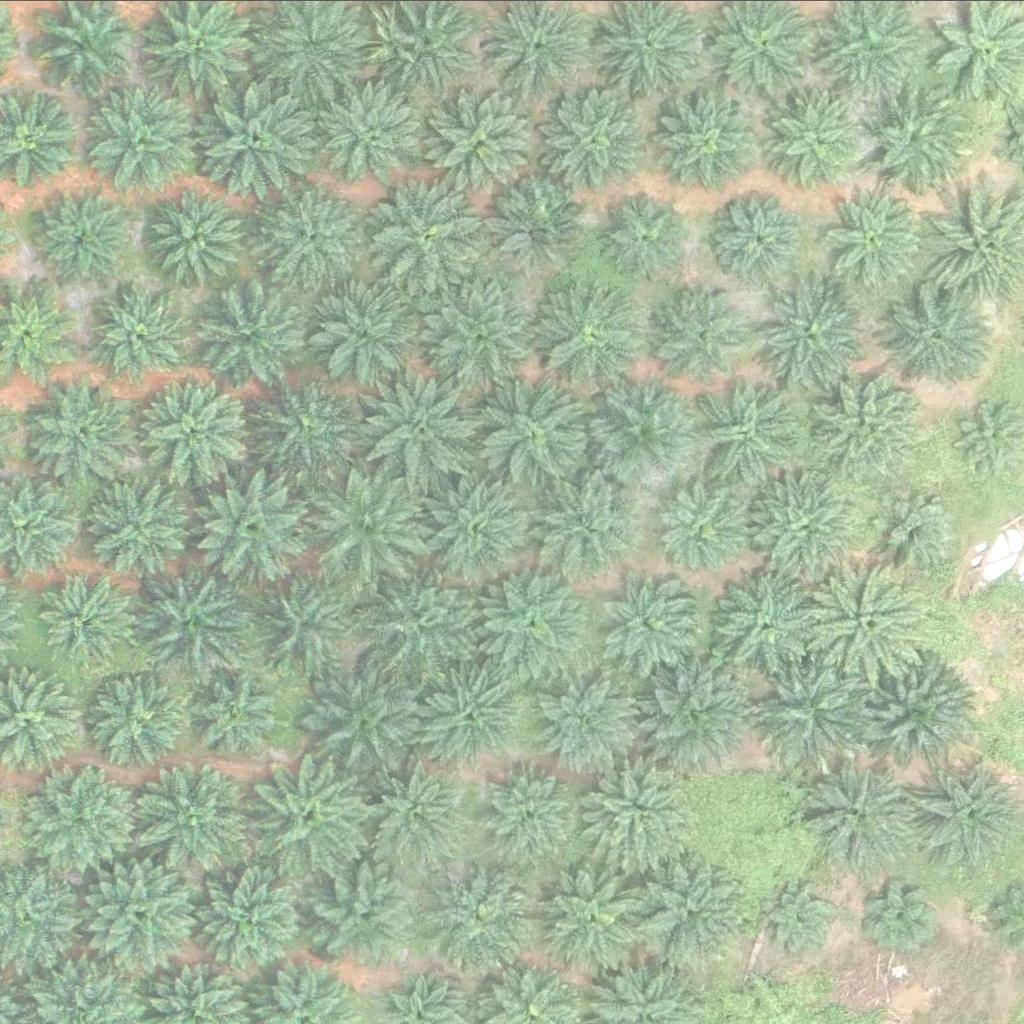Kelapa_Sawit: (190, 853, 316, 978), (132, 752, 258, 877), (247, 753, 373, 878), (303, 657, 429, 782), (123, 561, 249, 686), (242, 562, 368, 687), (358, 562, 484, 687), (192, 461, 318, 586), (310, 463, 436, 588), (358, 366, 484, 491), (196, 78, 322, 203), (472, 370, 598, 495), (412, 463, 538, 588), (469, 560, 595, 685), (813, 556, 939, 681), (751, 647, 877, 772), (135, 365, 260, 490), (366, 175, 491, 300), (415, 268, 540, 393), (528, 268, 653, 393), (633, 654, 747, 767), (428, 861, 542, 974), (314, 861, 427, 974), (25, 761, 138, 874), (694, 375, 807, 488), (860, 655, 973, 768), (588, 751, 701, 864), (803, 758, 916, 871), (537, 861, 650, 974), (638, 857, 751, 970), (81, 859, 195, 971), (360, 754, 474, 866), (746, 470, 860, 582), (600, 568, 714, 680), (707, 567, 821, 679), (79, 82, 192, 194), (315, 79, 428, 191), (759, 276, 872, 388), (90, 670, 191, 770), (37, 573, 138, 673), (85, 476, 186, 576), (30, 381, 131, 481), (257, 373, 358, 473), (92, 284, 193, 384), (206, 283, 307, 383), (310, 279, 411, 379), (29, 187, 130, 287), (145, 185, 246, 285), (261, 188, 362, 288), (433, 91, 534, 191), (547, 87, 648, 187), (658, 93, 759, 193), (771, 90, 872, 190), (871, 87, 972, 187), (484, 179, 585, 279), (823, 188, 924, 288), (652, 282, 753, 382), (593, 379, 694, 479), (536, 470, 637, 570), (186, 663, 286, 763), (893, 279, 993, 379), (813, 367, 913, 467), (417, 664, 517, 764), (538, 673, 638, 773), (484, 766, 584, 866), (604, 194, 693, 282), (716, 197, 804, 285), (872, 483, 960, 571), (657, 482, 745, 569), (764, 879, 839, 954), (863, 878, 938, 953)
